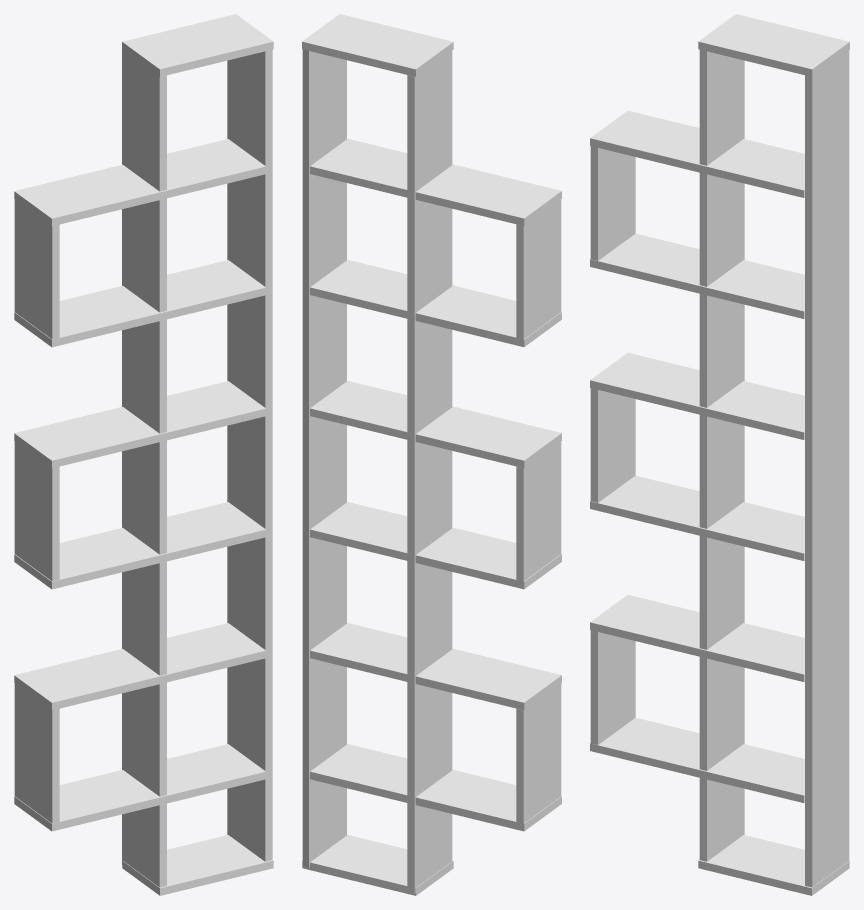
File: shelf_059.glb
The picture shows the model from 3 angles, left to right: view 1: azimuth 30°, elevation 25°; view 2: azimuth 150°, elevation 25°; view 3: azimuth 330°, elevation 25°; orthographic projection.
Visible parts, largest first — view 1: shelf_059; view 2: shelf_059; view 3: shelf_059.
Boxes of the visible parts, x1,y1,x2,y2 form: shelf_059: (14,14,273,895); shelf_059: (302,14,561,895); shelf_059: (590,14,849,895).
Bounding box in the file's own units: 0.8285 × 2.95 × 0.2496.
1 material, 1 textured.
